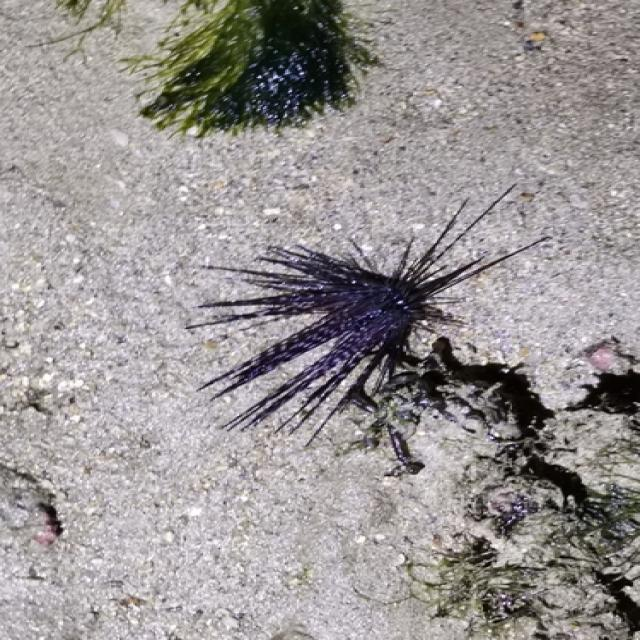Urchin: (181, 173, 553, 448)
